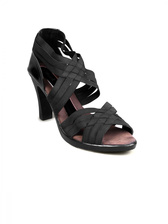shoes: (26, 30, 141, 158)
